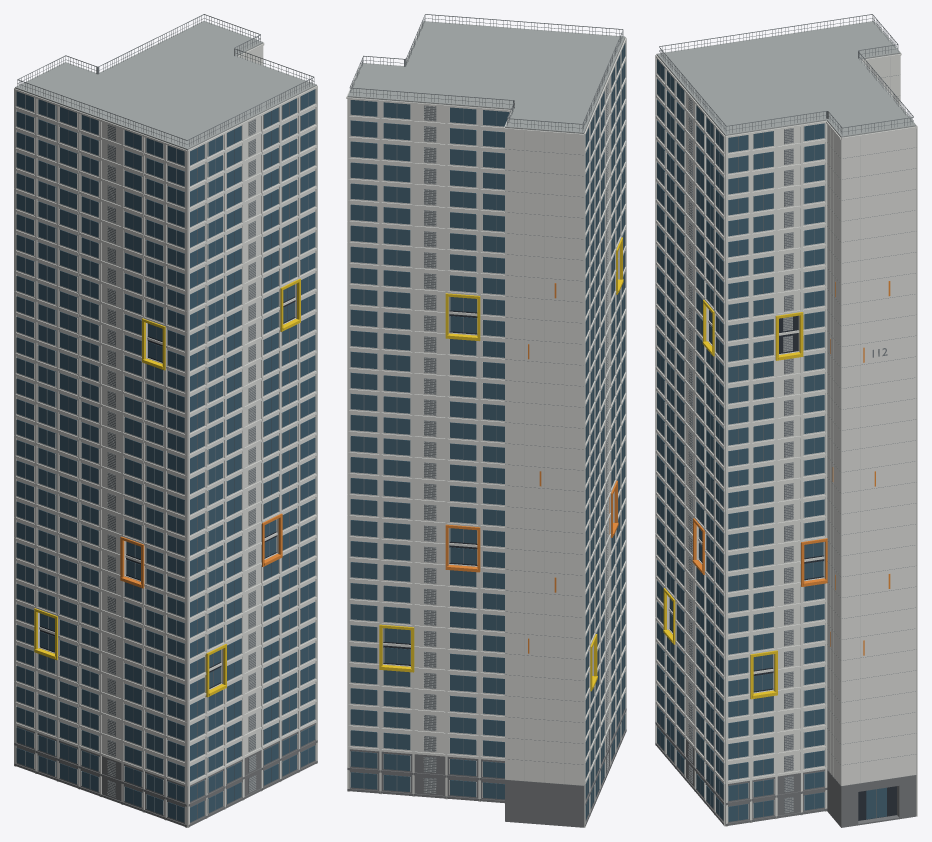
Rendered from bespoke-songpa-helio-city-112.glb.
3 views of the same model, side by side, from view 1: azimuth 30°, elevation 25°; view 2: azimuth 150°, elevation 25°; view 3: azimuth 270°, elevation 25° (orthographic). The views are drawn at different scales.
Parts seen in each view (by area): view 1: Helio112_editable_Helio112_dark_blue_grey_glazing, Helio112_editable_Helio112_white_slab_frames, Helio112_editable_Helio112_grey_service_grille, Helio112_editable_Helio112_low_roof_deck, Helio112_editable_Helio112_dark_grey_twofloor_base, Helio112_editable_Helio112_blankwall_grey_panels, Helio112_editable_Helio112_yellow_projecting_rectangular_fra, Helio112_editable_Helio112_orange_narrow_accent; view 2: Helio112_editable_Helio112_white_slab_frames, Helio112_editable_Helio112_dark_blue_grey_glazing, Helio112_editable_Helio112_low_roof_deck, Helio112_editable_Helio112_grey_service_grille, Helio112_editable_Helio112_dark_grey_twofloor_base, Helio112_editable_Helio112_blankwall_grey_panels, Helio112_editable_Helio112_yellow_projecting_rectangular_fra, Helio112_editable_Helio112_orange_narrow_accent, Helio112_editable_Helio112_deep_shaded_frame_recess; view 3: Helio112_editable_Helio112_white_slab_frames, Helio112_editable_Helio112_dark_blue_grey_glazing, Helio112_editable_Helio112_low_roof_deck, Helio112_editable_Helio112_grey_service_grille, Helio112_editable_Helio112_blankwall_grey_panels, Helio112_editable_Helio112_dark_grey_twofloor_base, Helio112_editable_Helio112_yellow_projecting_rectangular_fra, Helio112_editable_Helio112_deep_shaded_frame_recess, Helio112_editable_Helio112_orange_narrow_accent.
Part boxes in pixels (box(x1,y1,x2,y2)): Helio112_editable_Helio112_dark_blue_grey_glazing: box(16, 89, 315, 822); Helio112_editable_Helio112_white_slab_frames: box(14, 42, 317, 827); Helio112_editable_Helio112_grey_service_grille: box(17, 14, 314, 819); Helio112_editable_Helio112_low_roof_deck: box(15, 21, 316, 149); Helio112_editable_Helio112_dark_grey_twofloor_base: box(14, 723, 317, 827); Helio112_editable_Helio112_blankwall_grey_panels: box(107, 52, 255, 797); Helio112_editable_Helio112_yellow_projecting_rectangular_fra: box(34, 278, 300, 697); Helio112_editable_Helio112_orange_narrow_accent: box(120, 513, 282, 588); Helio112_editable_Helio112_white_slab_frames: box(346, 22, 626, 827); Helio112_editable_Helio112_dark_blue_grey_glazing: box(350, 43, 625, 820); Helio112_editable_Helio112_low_roof_deck: box(347, 21, 625, 133); Helio112_editable_Helio112_grey_service_grille: box(349, 14, 623, 817); Helio112_editable_Helio112_dark_grey_twofloor_base: box(347, 708, 626, 827); Helio112_editable_Helio112_blankwall_grey_panels: box(424, 82, 608, 793); Helio112_editable_Helio112_yellow_projecting_rectangular_fra: box(379, 237, 623, 691); Helio112_editable_Helio112_orange_narrow_accent: box(445, 283, 618, 653); Helio112_editable_Helio112_deep_shaded_frame_recess: box(383, 297, 477, 665); Helio112_editable_Helio112_white_slab_frames: box(655, 22, 917, 826); Helio112_editable_Helio112_dark_blue_grey_glazing: box(657, 59, 886, 821); Helio112_editable_Helio112_low_roof_deck: box(656, 21, 916, 137); Helio112_editable_Helio112_grey_service_grille: box(659, 14, 915, 820); Helio112_editable_Helio112_blankwall_grey_panels: box(688, 58, 890, 812); Helio112_editable_Helio112_dark_grey_twofloor_base: box(655, 705, 916, 827); Helio112_editable_Helio112_yellow_projecting_rectangular_fra: box(663, 299, 803, 699); Helio112_editable_Helio112_deep_shaded_frame_recess: box(669, 315, 896, 820); Helio112_editable_Helio112_orange_narrow_accent: box(692, 281, 890, 655).
Bounding box in the file's own units: 33.42 × 93.4 × 31.73.
